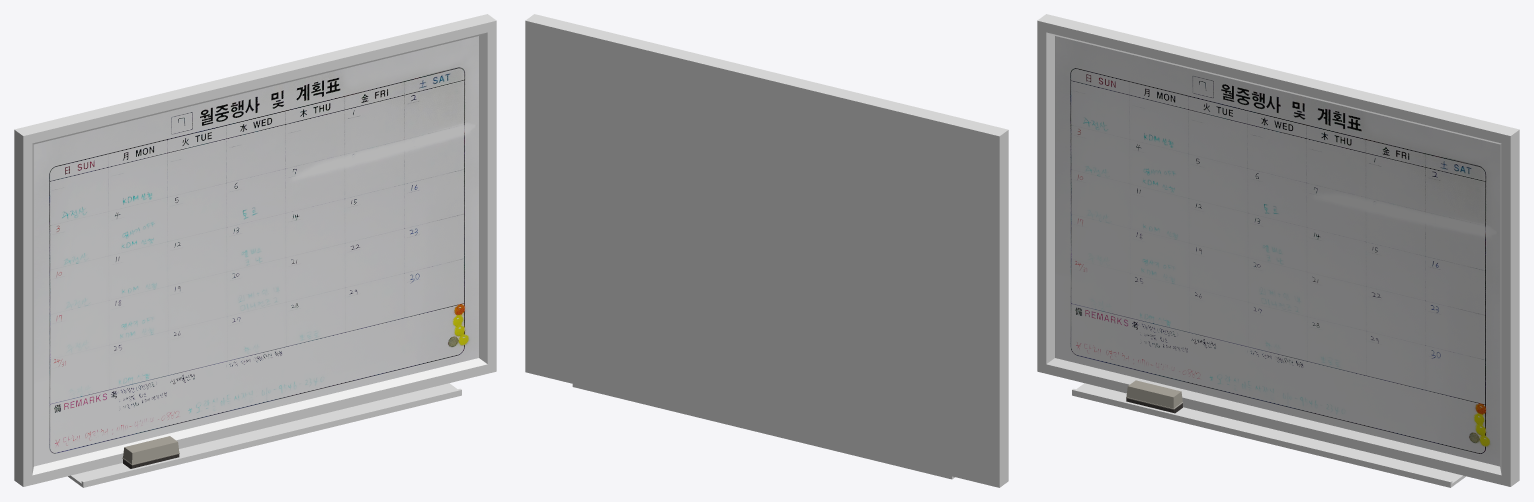
File: LC_3156_event_schedule_LOD2.fbx
3 views of the same model, side by side, from view 1: azimuth 30°, elevation 25°; view 2: azimuth 150°, elevation 25°; view 3: azimuth 330°, elevation 25° (orthographic).
Visible parts, largest first — view 1: LC_3156_es_LOD2; view 2: LC_3156_es_LOD2; view 3: LC_3156_es_LOD2.
Part boxes in pixels (left/top/right/bottom): LC_3156_es_LOD2: left=14, top=14, right=496, bottom=487; LC_3156_es_LOD2: left=525, top=14, right=1008, bottom=487; LC_3156_es_LOD2: left=1037, top=14, right=1519, bottom=487.
Bounding box in the file's own units: 120 × 85.76 × 9.56.
Materials: 1 (1 with a texture image).
